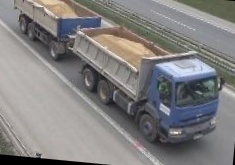truck: (1, 0, 231, 150)
